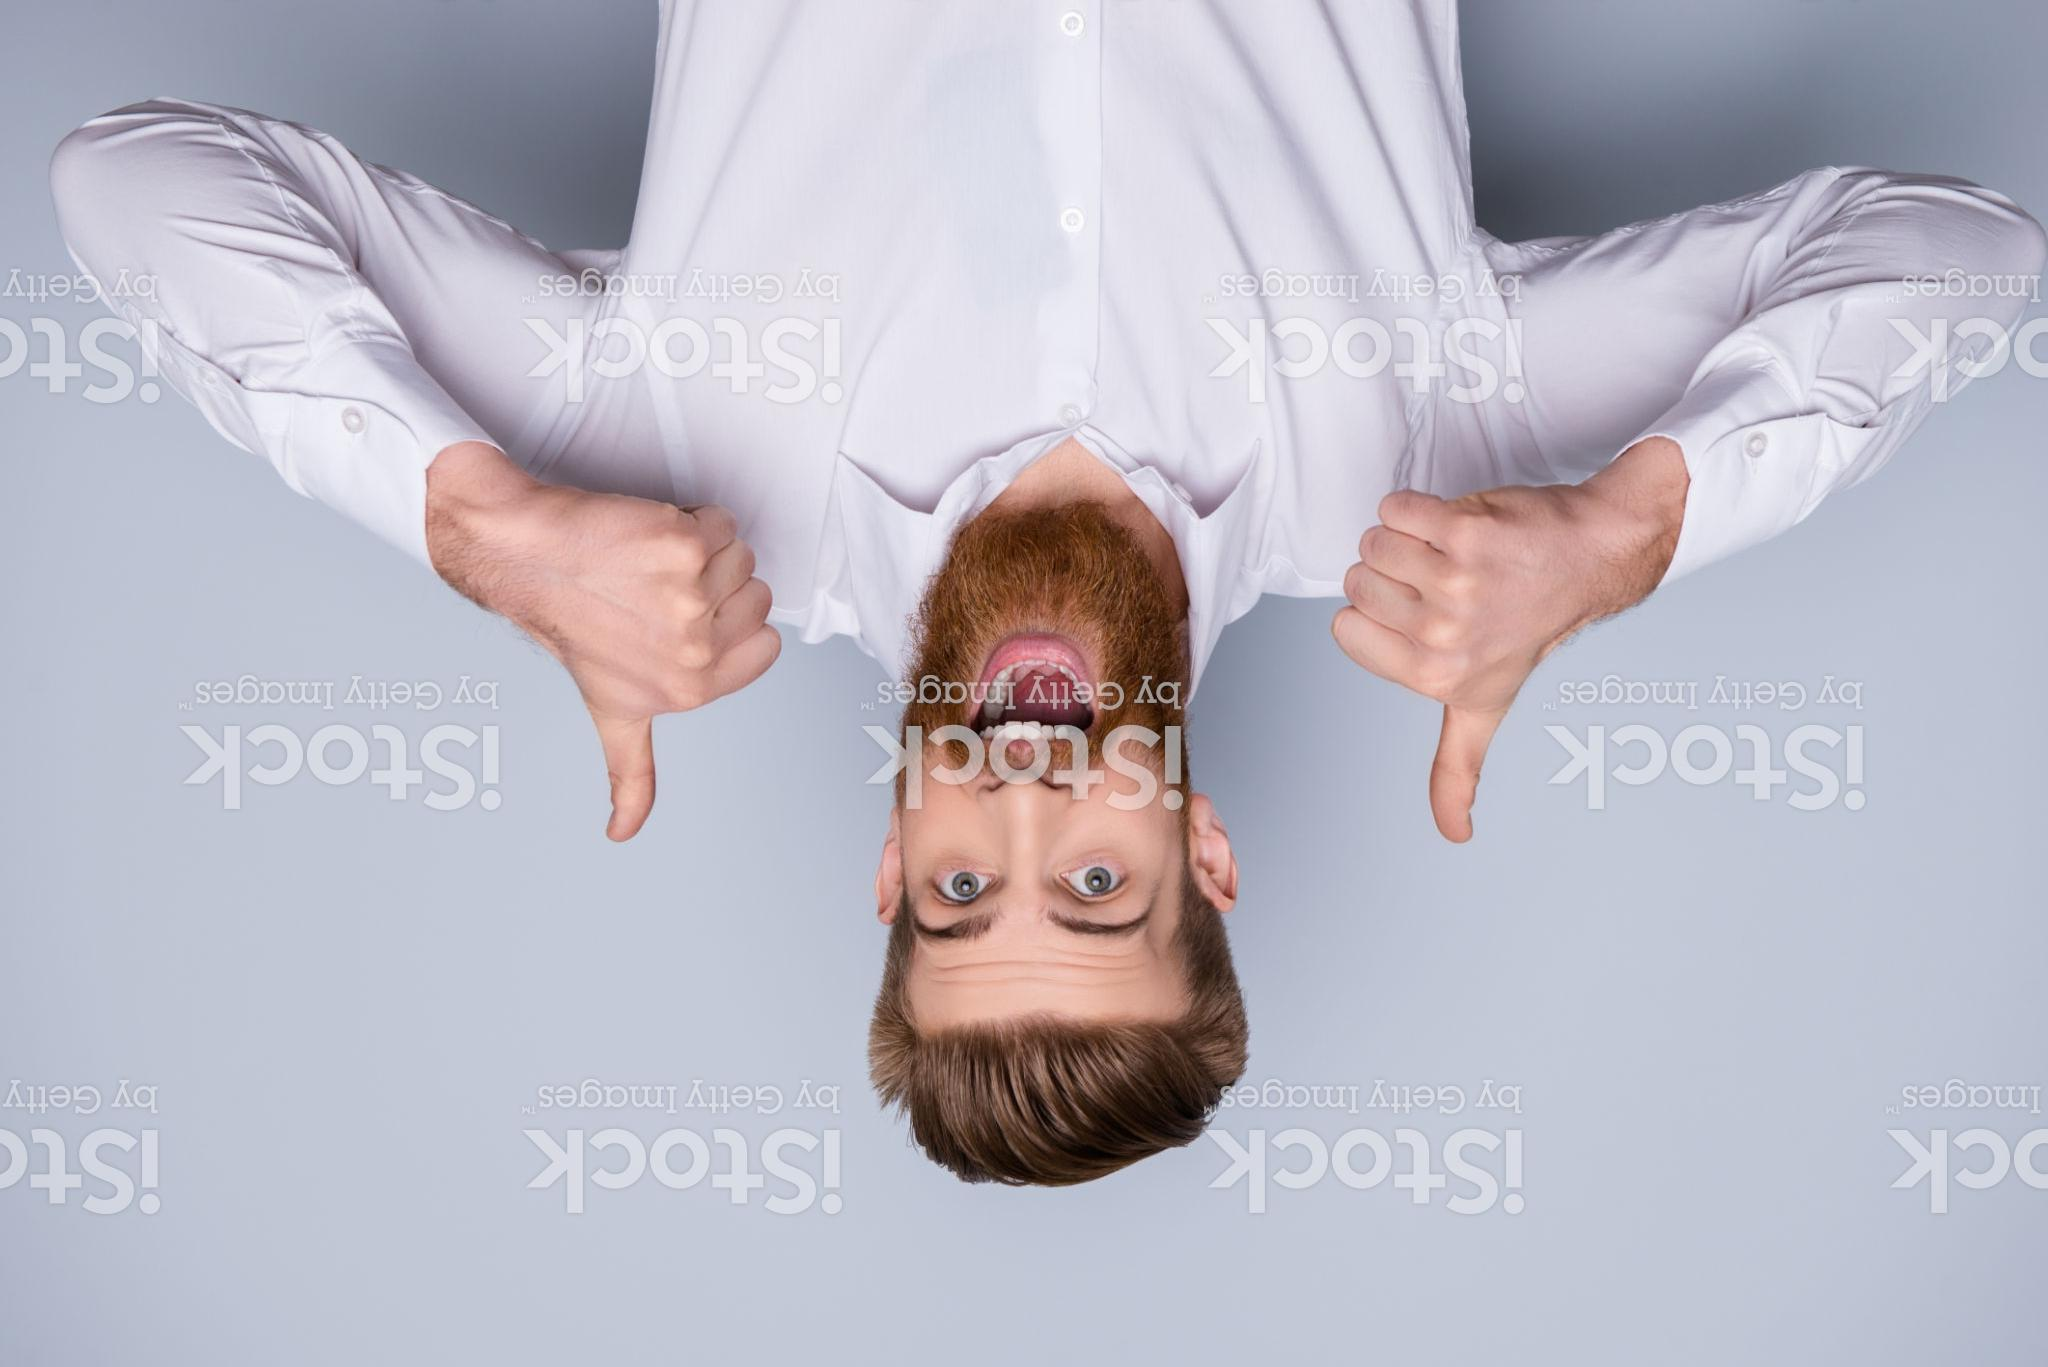thumbsdown: (1327, 481, 1575, 847), (567, 484, 785, 847)
